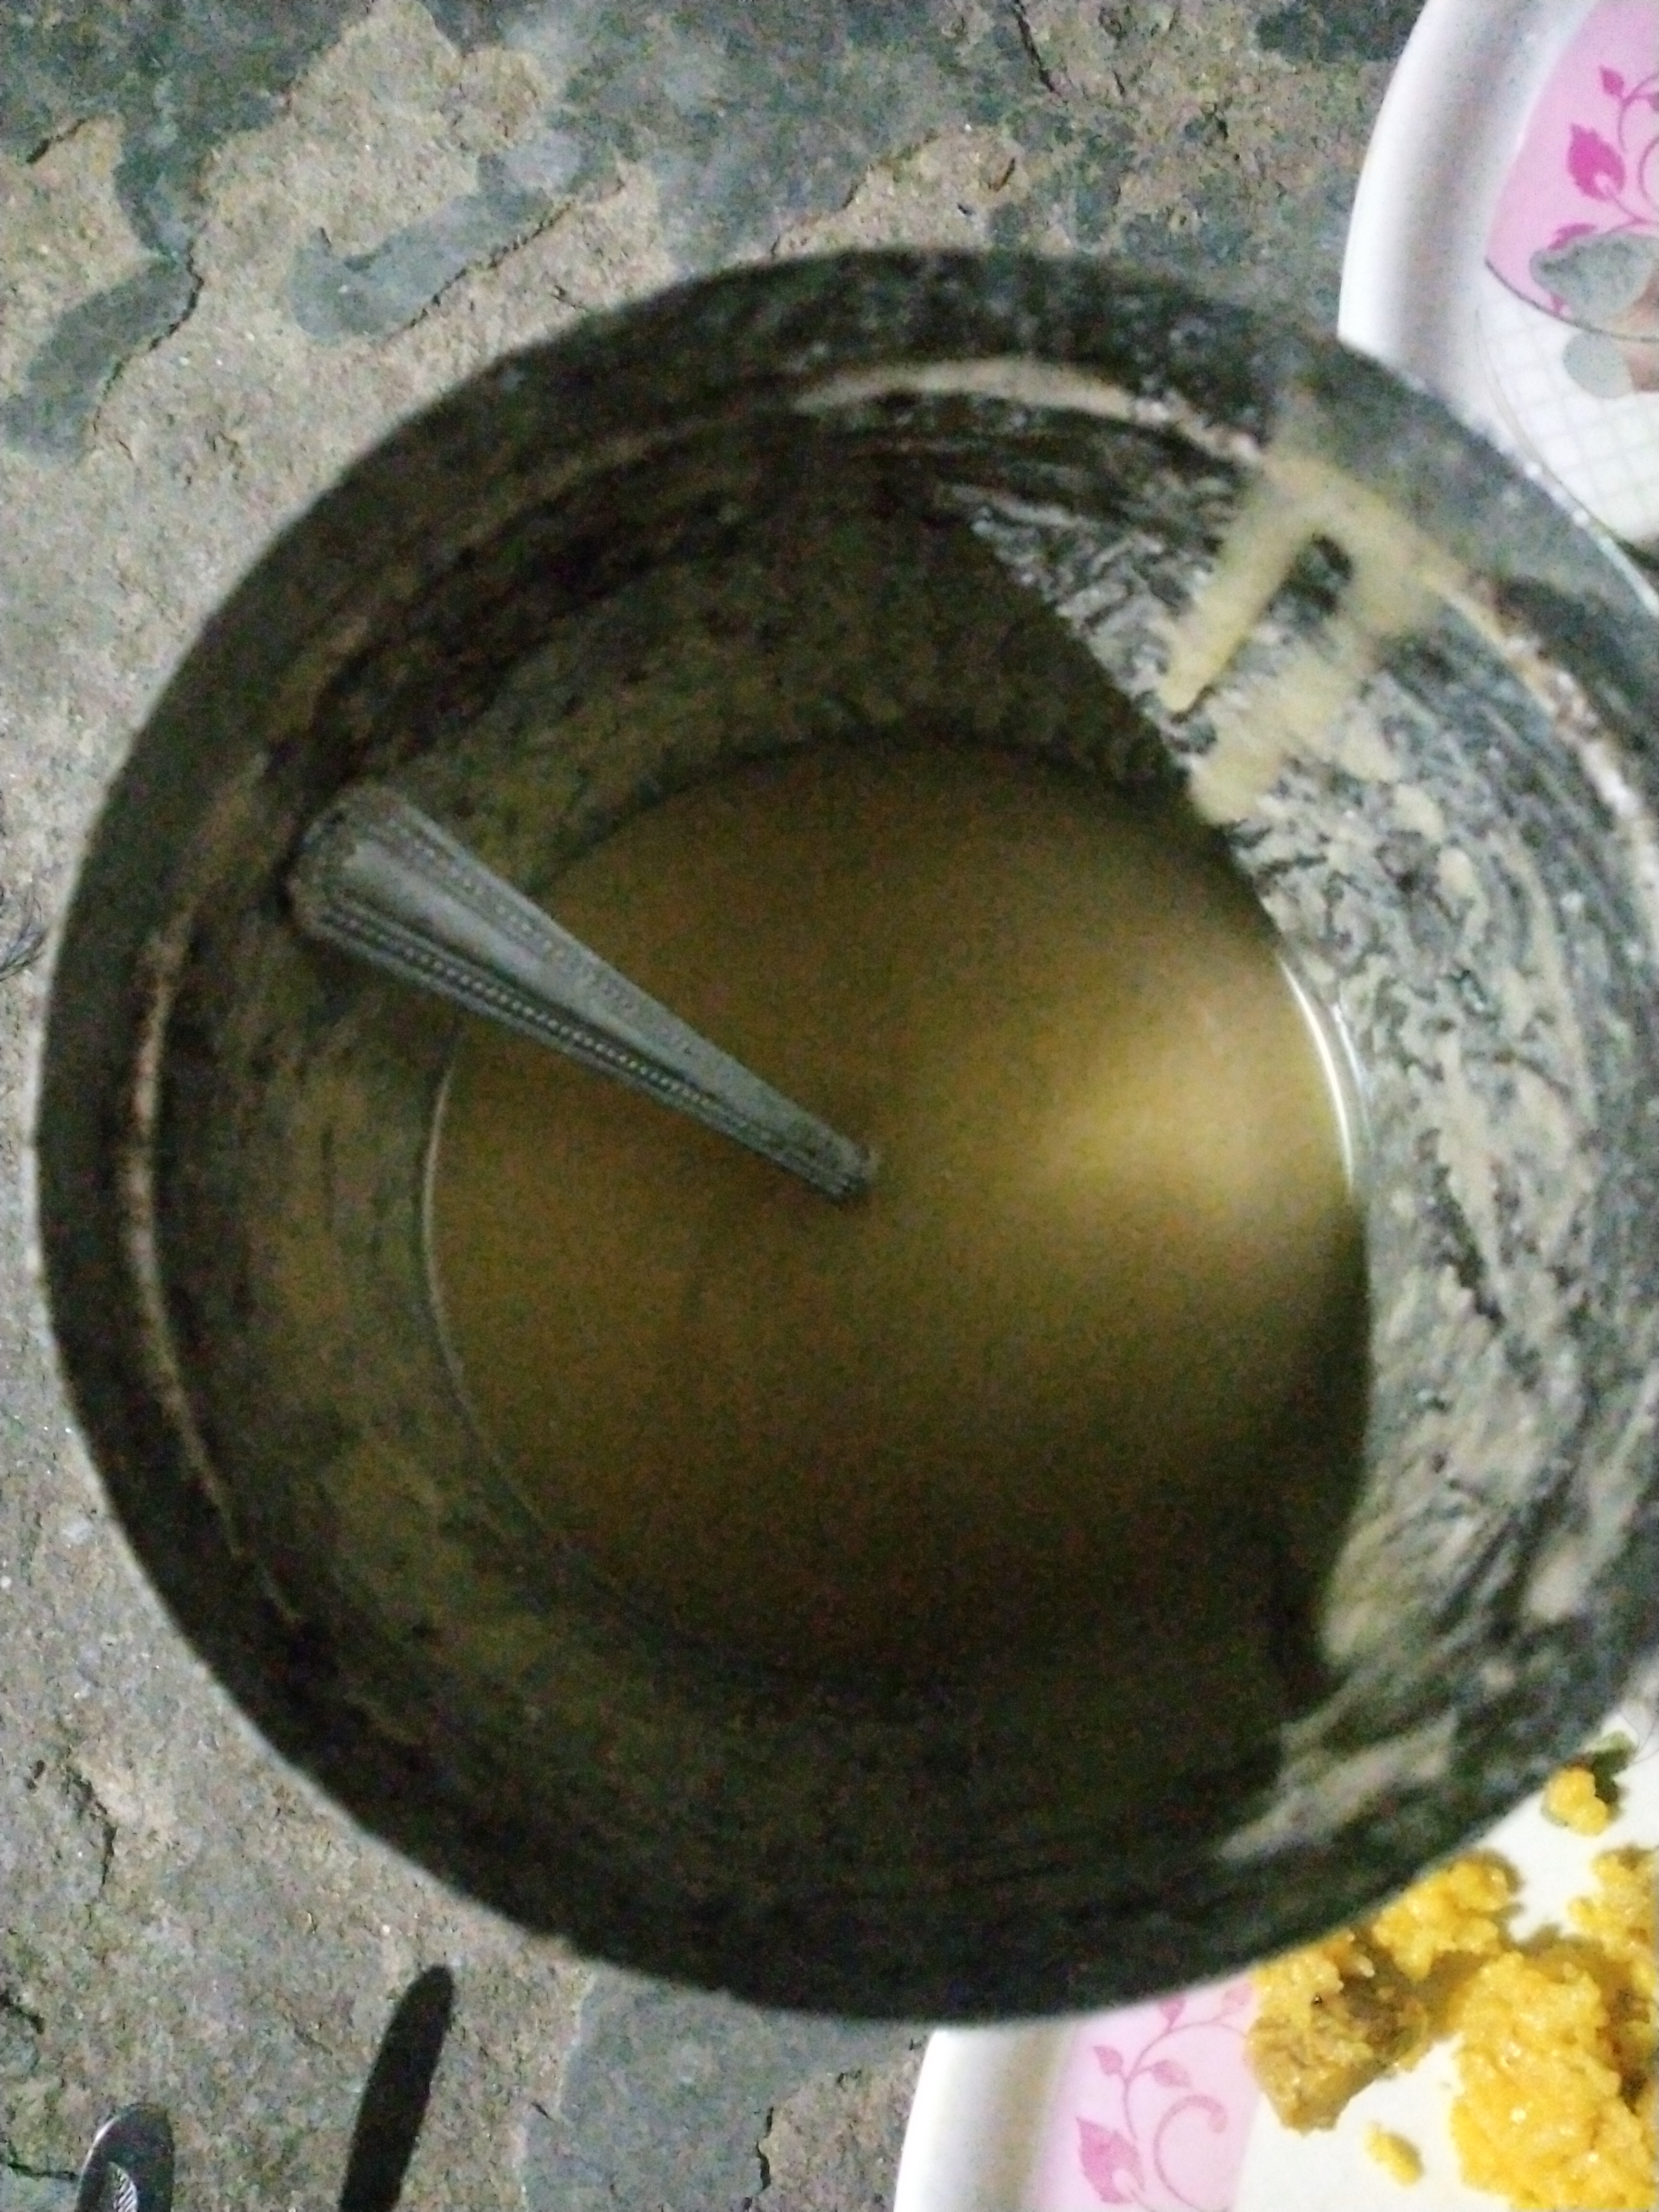food: (17, 239, 1657, 2022), (1243, 1743, 1654, 2212)
